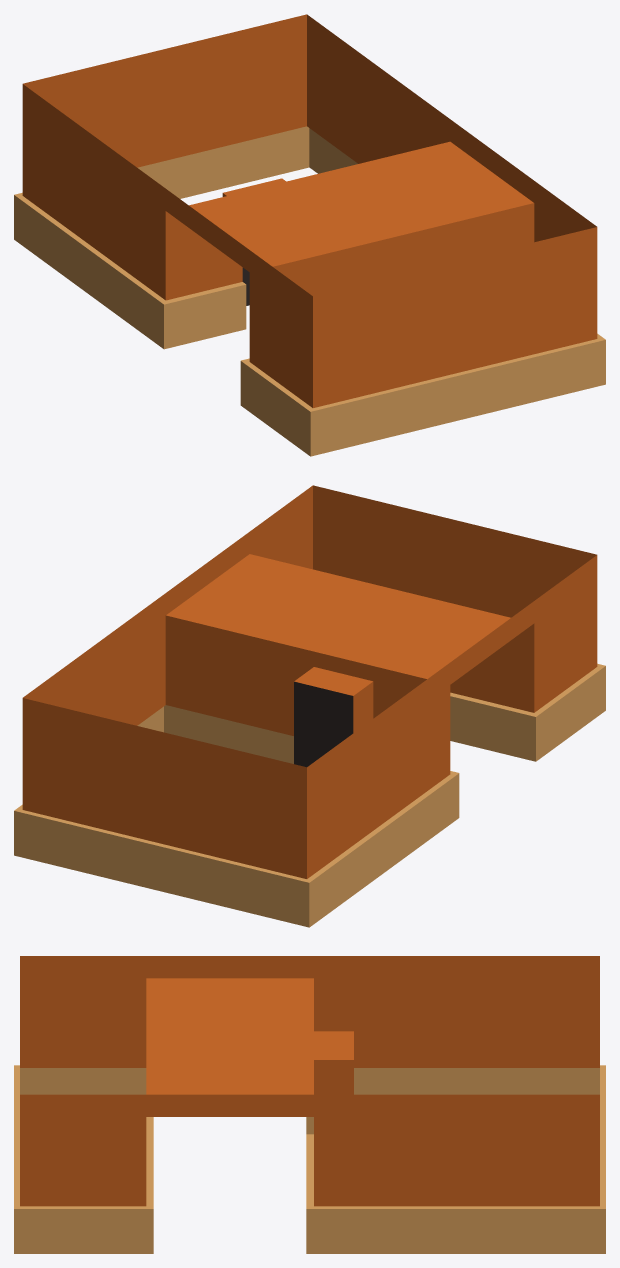
Rendered from building3_ground.fbx.
The picture shows the model from 3 angles, top to bottom: view 1: azimuth 30°, elevation 25°; view 2: azimuth 150°, elevation 25°; view 3: azimuth 270°, elevation 25°; orthographic projection.
Parts seen in each view (by area): view 1: building3_ground; view 2: building3_ground; view 3: building3_ground.
Boxes of the visible parts, x1=… form: building3_ground: x1=14, y1=14, x2=605, y2=456; building3_ground: x1=14, y1=485, x2=605, y2=927; building3_ground: x1=14, y1=956, x2=605, y2=1253.
Bounding box in the file's own units: 690 × 350 × 1200.
